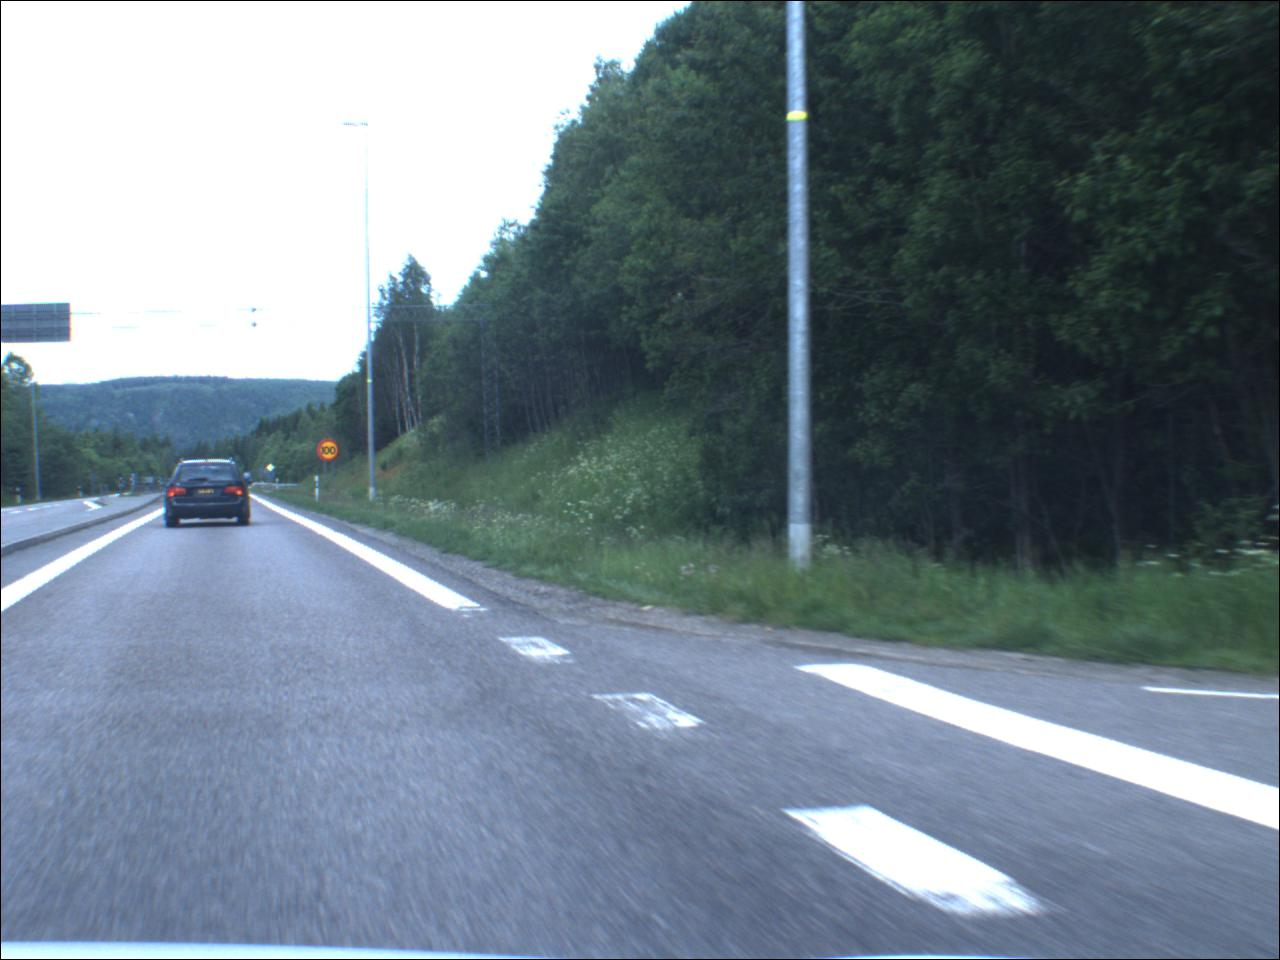100_SIGN: (318, 440, 343, 465)
PRIORITY_ROAD: (267, 465, 279, 475)
